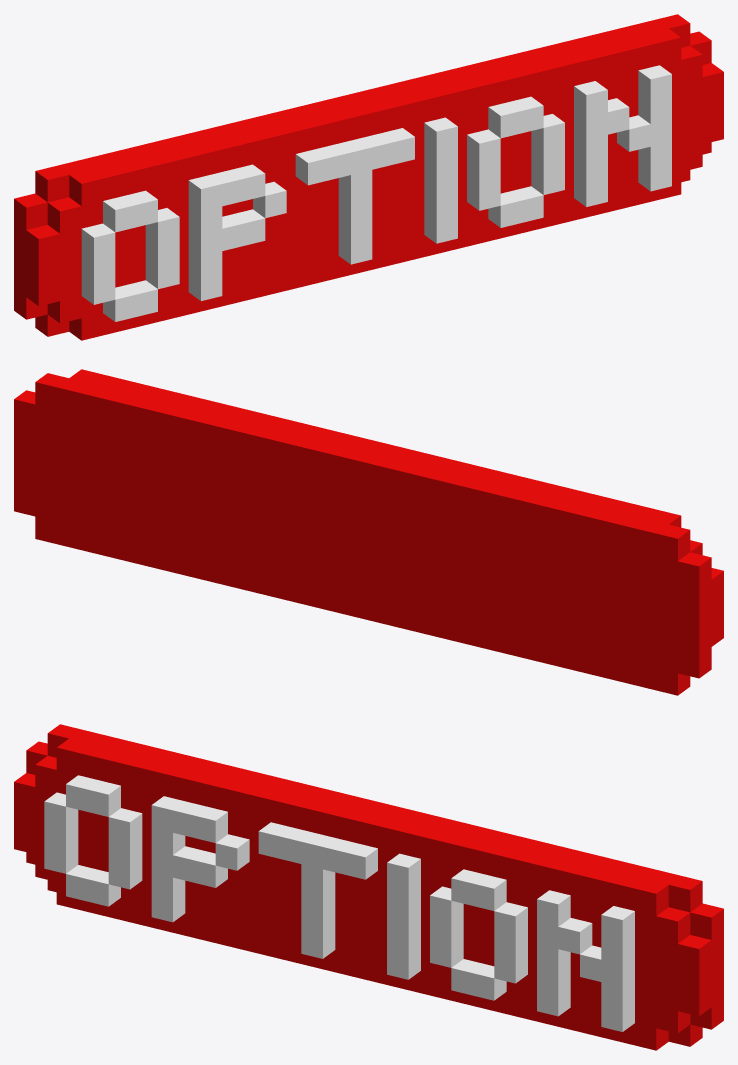
Rendered from option.obj.
3 views of the same model, one above another, from view 1: azimuth 30°, elevation 25°; view 2: azimuth 150°, elevation 25°; view 3: azimuth 330°, elevation 25° (orthographic).
Visible parts, largest first — view 1: option; view 2: option; view 3: option.
Boxes of the visible parts, x1,y1,x2,y2 form: option: (14,14,723,340); option: (14,369,723,695); option: (14,724,723,1050).
Size of the model in its own units: 32 by 7 by 3.
1 material, 1 textured.
